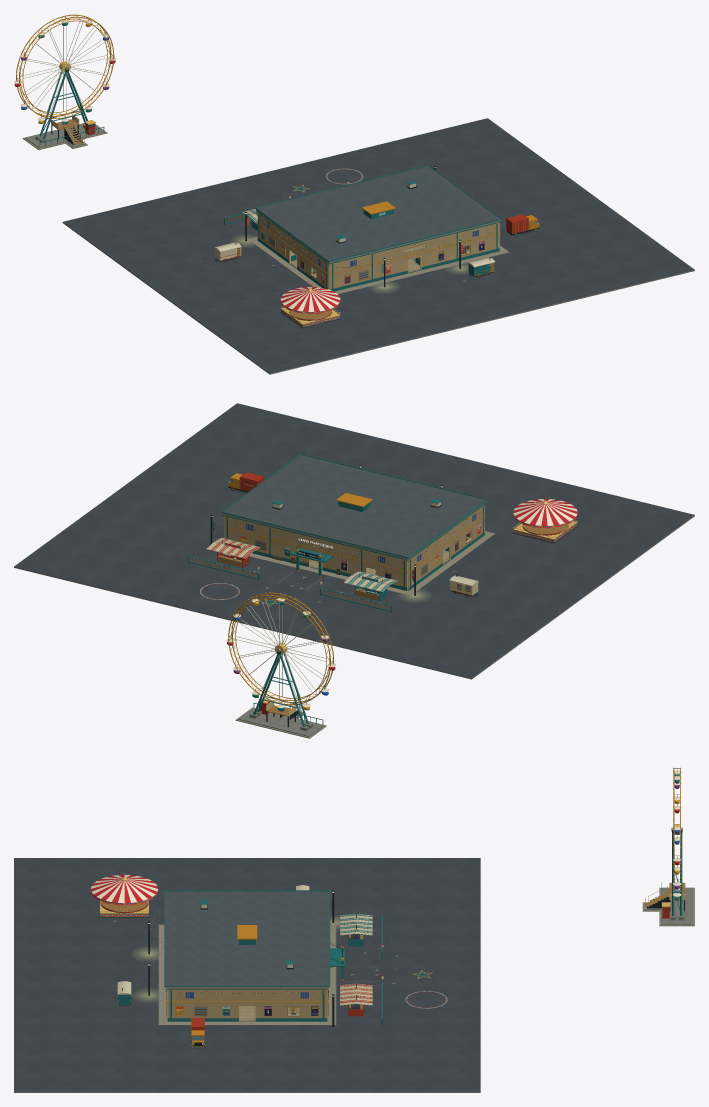
Rendered from funfair.glb.
3 renders of one model, top to bottom at view 1: azimuth 30°, elevation 25°; view 2: azimuth 150°, elevation 25°; view 3: azimuth 270°, elevation 25°, orthographic. The views are drawn at different scales.
Parts seen in each view (by area): view 1: Funfair__Asphalt, Roof__Roof_membrane, Funfair__Facade_plaster, Funfair__Palace_teal, Funfair__Mustard, Funfair__Concrete, Funfair__Fair_swatches, Funfair__Metal_white, Funfair__Paving, Roof__Palace_teal, Funfair__Pale_wood, Funfair__Fair_atlas (+2 smaller); view 2: Funfair__Asphalt, Roof__Roof_membrane, Funfair__Facade_plaster, Funfair__Palace_teal, Funfair__Concrete, Funfair__Mustard, Funfair__Fair_swatches, Funfair__Metal_white, Funfair__Pale_wood, Funfair__Paving, Roof__Palace_teal, Funfair__Fabric_cream (+3 smaller); view 3: Funfair__Asphalt, Roof__Roof_membrane, Funfair__Facade_plaster, Funfair__Palace_teal, Funfair__Fair_swatches, Funfair__Paving, Funfair__Concrete, Roof__Palace_teal, Funfair__Mustard, Funfair__Fabric_cream, Funfair__Metal_dark, Funfair__Pale_wood (+3 smaller).
Part boxes in pixels (left/top/right/bottom): Funfair__Asphalt: left=63, top=118, right=694, bottom=373; Roof__Roof_membrane: left=257, top=166, right=500, bottom=260; Funfair__Facade_plaster: left=257, top=211, right=499, bottom=289; Funfair__Palace_teal: left=39, top=70, right=500, bottom=327; Funfair__Mustard: left=16, top=14, right=539, bottom=276; Funfair__Concrete: left=25, top=123, right=694, bottom=374; Funfair__Fair_swatches: left=14, top=19, right=348, bottom=314; Funfair__Metal_white: left=20, top=20, right=494, bottom=276; Funfair__Paving: left=22, top=124, right=508, bottom=293; Roof__Palace_teal: left=255, top=165, right=502, bottom=261; Funfair__Pale_wood: left=51, top=119, right=494, bottom=319; Funfair__Fair_atlas: left=88, top=124, right=484, bottom=327; Funfair__Asphalt: left=14, top=403, right=694, bottom=678; Roof__Roof_membrane: left=223, top=455, right=485, bottom=556; Funfair__Facade_plaster: left=224, top=503, right=484, bottom=587; Funfair__Palace_teal: left=188, top=503, right=577, bottom=726; Funfair__Concrete: left=14, top=515, right=694, bottom=736; Funfair__Mustard: left=223, top=473, right=485, bottom=705; Funfair__Fair_swatches: left=189, top=496, right=577, bottom=711; Funfair__Metal_white: left=233, top=532, right=478, bottom=699; Funfair__Pale_wood: left=189, top=524, right=568, bottom=716; Funfair__Paving: left=235, top=531, right=494, bottom=738; Roof__Palace_teal: left=221, top=454, right=487, bottom=558; Funfair__Fabric_cream: left=206, top=538, right=478, bottom=595; Funfair__Asphalt: left=14, top=858, right=480, bottom=1091; Roof__Roof_membrane: left=165, top=891, right=329, bottom=985; Funfair__Facade_plaster: left=167, top=987, right=327, bottom=1018; Funfair__Palace_teal: left=100, top=833, right=682, bottom=1026; Funfair__Fair_swatches: left=91, top=770, right=681, bottom=1012; Funfair__Paving: left=159, top=887, right=694, bottom=1024; Funfair__Concrete: left=14, top=887, right=692, bottom=1092; Roof__Palace_teal: left=164, top=890, right=330, bottom=986; Funfair__Mustard: left=117, top=768, right=680, bottom=1046; Funfair__Fabric_cream: left=340, top=915, right=372, bottom=1005; Funfair__Metal_dark: left=100, top=830, right=684, bottom=1047; Funfair__Pale_wood: left=100, top=888, right=685, bottom=1016.
Bounding box in the file's own units: 90 × 27.81 × 111.
Materials: 64 (43 with a texture image).
